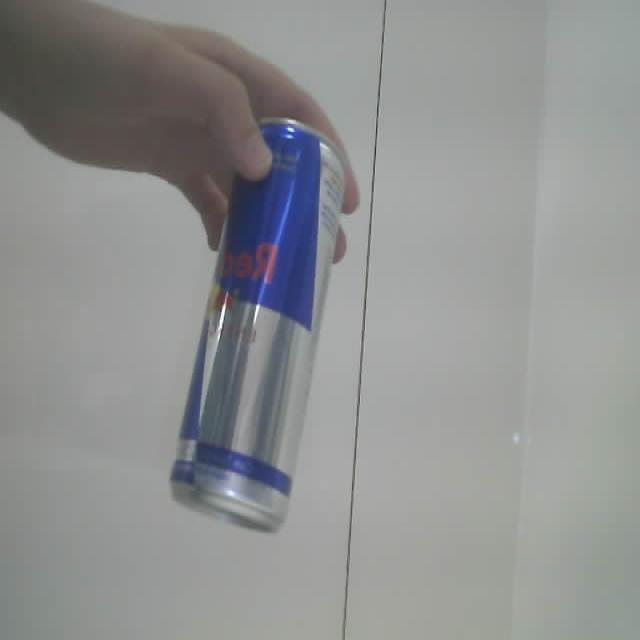redbull can: (171, 119, 344, 530)
